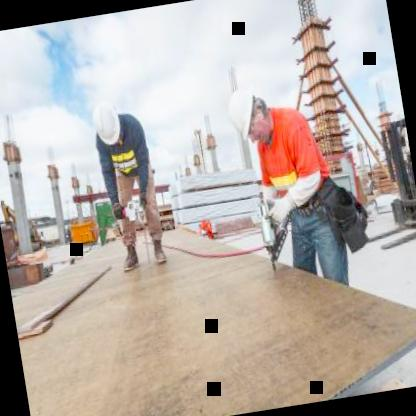helmet: (223, 78, 281, 153), (86, 90, 128, 152)
